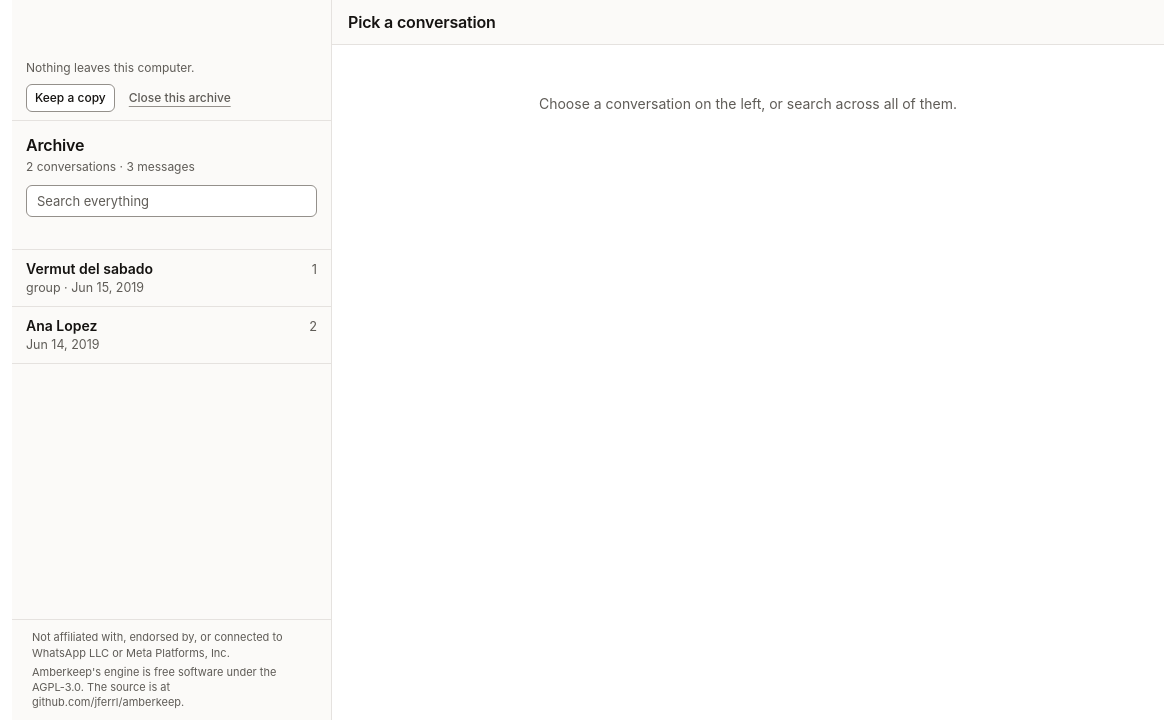
Test: reading a conversation › opens the one that was chosen
What coordinates should you click on to do the following:
click the button "Ana Lopez Jun 14, 2019 2"
I would click on:
 (62, 326)
Its box is [12,307,331,364].
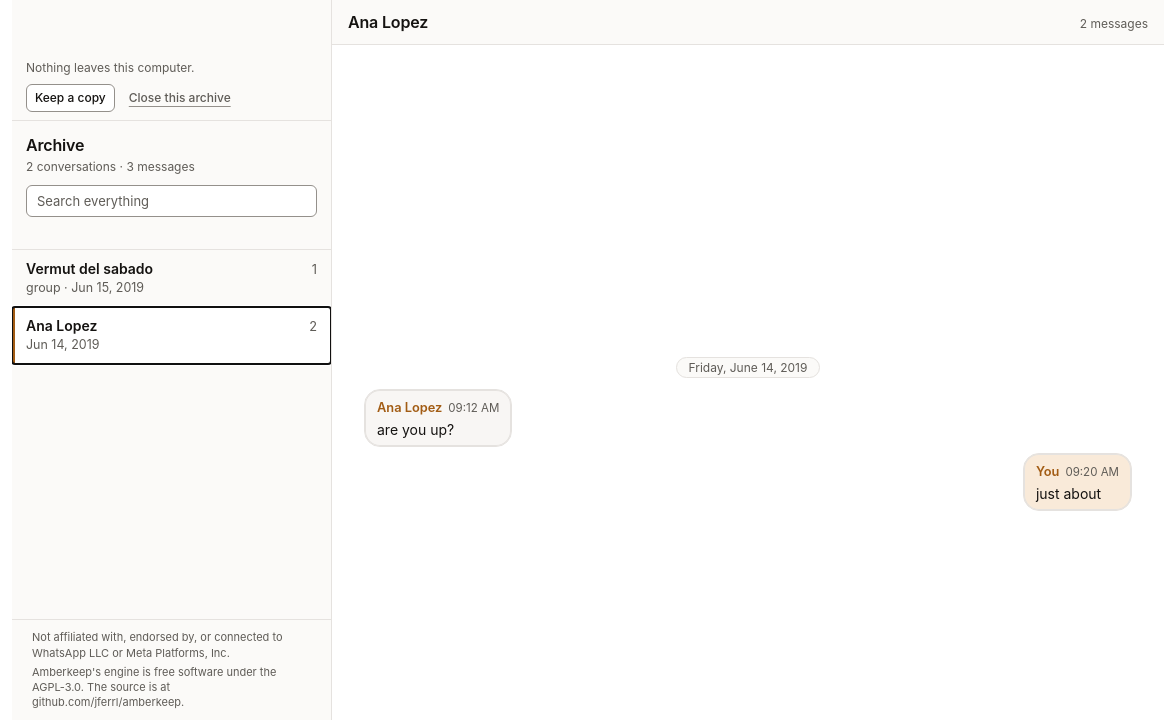
Now the heading "Ana Lopez" is shown, box [348,10,428,34]
Now the text "2 messages" is shown, box [1080,16,1148,32]
